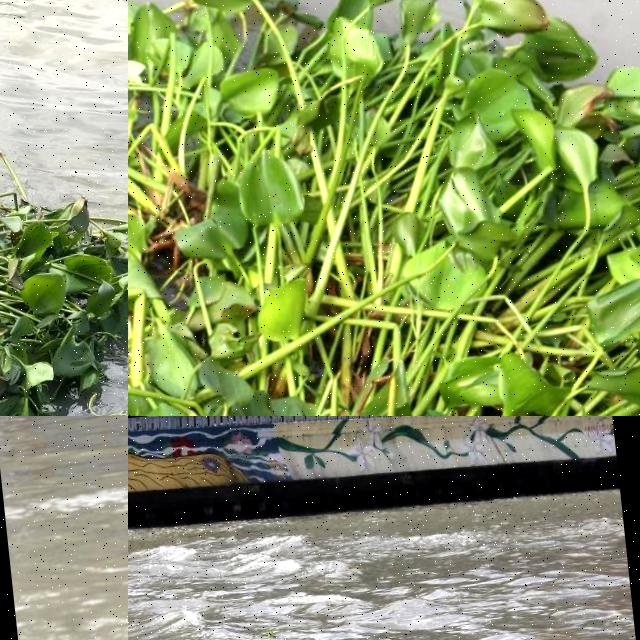water-hyacinth: (129, 1, 640, 417), (1, 149, 129, 417)
